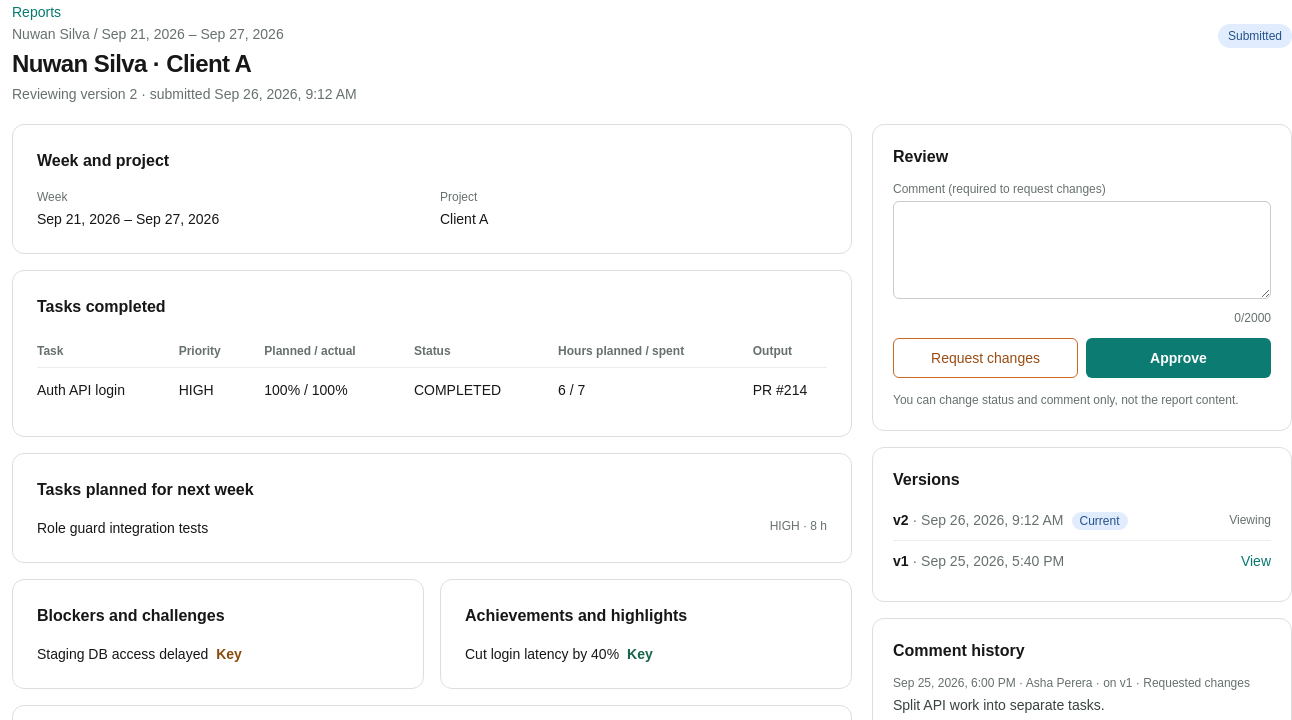
Scenario: ManagerReportReviewPage › requires a non-blank comment before requesting changes
What coordinates should you click on to do the following:
click the button "Request changes"
I would click on:
 (986, 358)
Its box is [893, 338, 1078, 378].
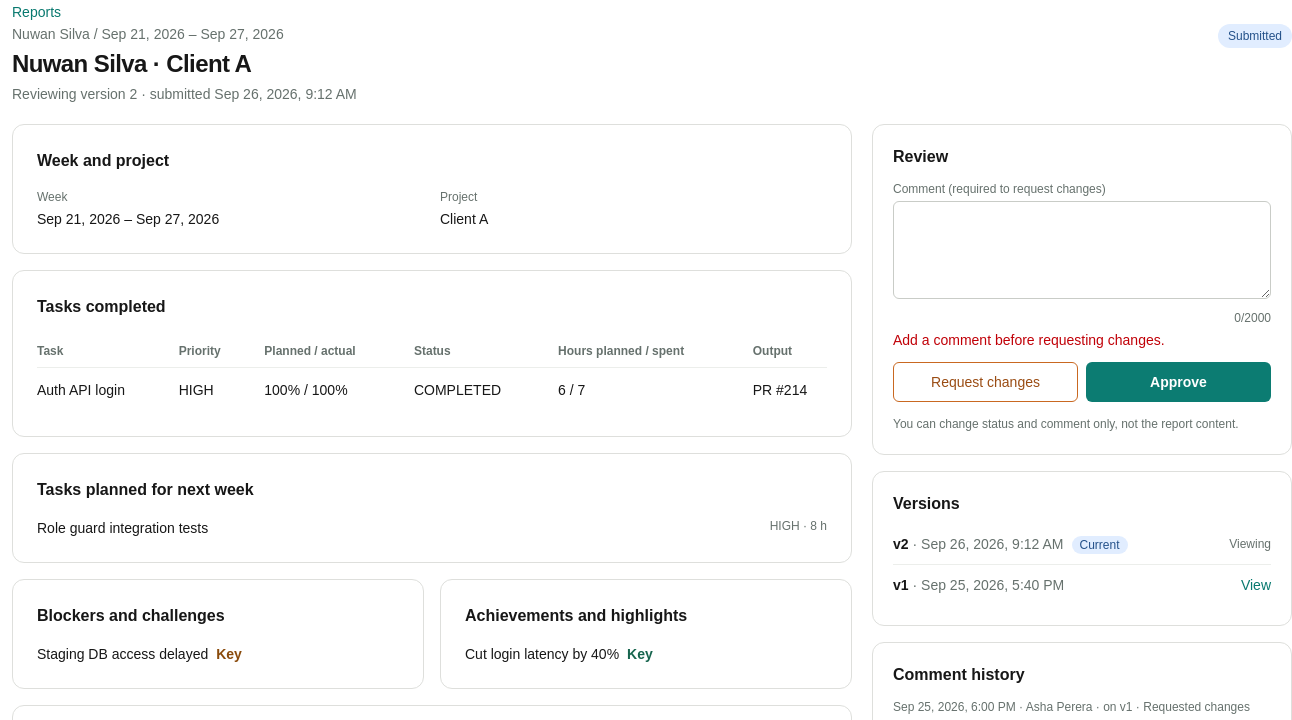
Now the text "Add a comment before requesting changes." is shown, box [893, 332, 1165, 348]
